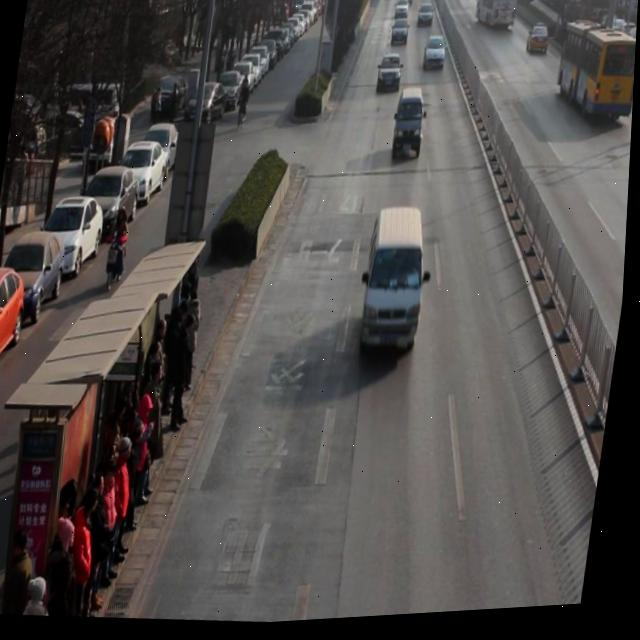car: (377, 56, 405, 99), (422, 39, 449, 78), (526, 30, 552, 63), (390, 21, 411, 52)
truck: (358, 207, 438, 366), (391, 90, 430, 167)
van: (551, 20, 638, 131)
